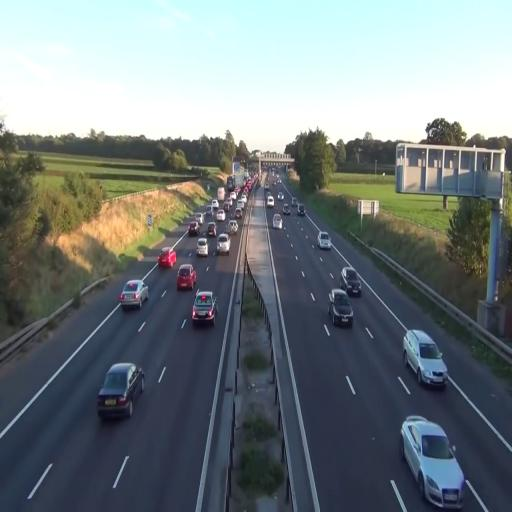vehicle: (401, 415, 465, 508), (97, 361, 145, 421), (403, 330, 448, 388), (328, 288, 354, 327), (192, 290, 216, 325), (120, 279, 145, 311), (196, 226, 218, 256), (341, 267, 362, 298), (176, 263, 197, 292), (158, 248, 176, 271), (216, 232, 230, 255), (318, 232, 331, 249), (196, 238, 208, 256), (272, 214, 283, 230)
